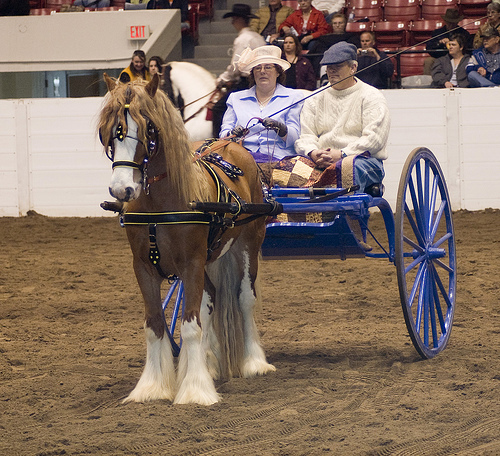horse: (95, 62, 281, 407)
